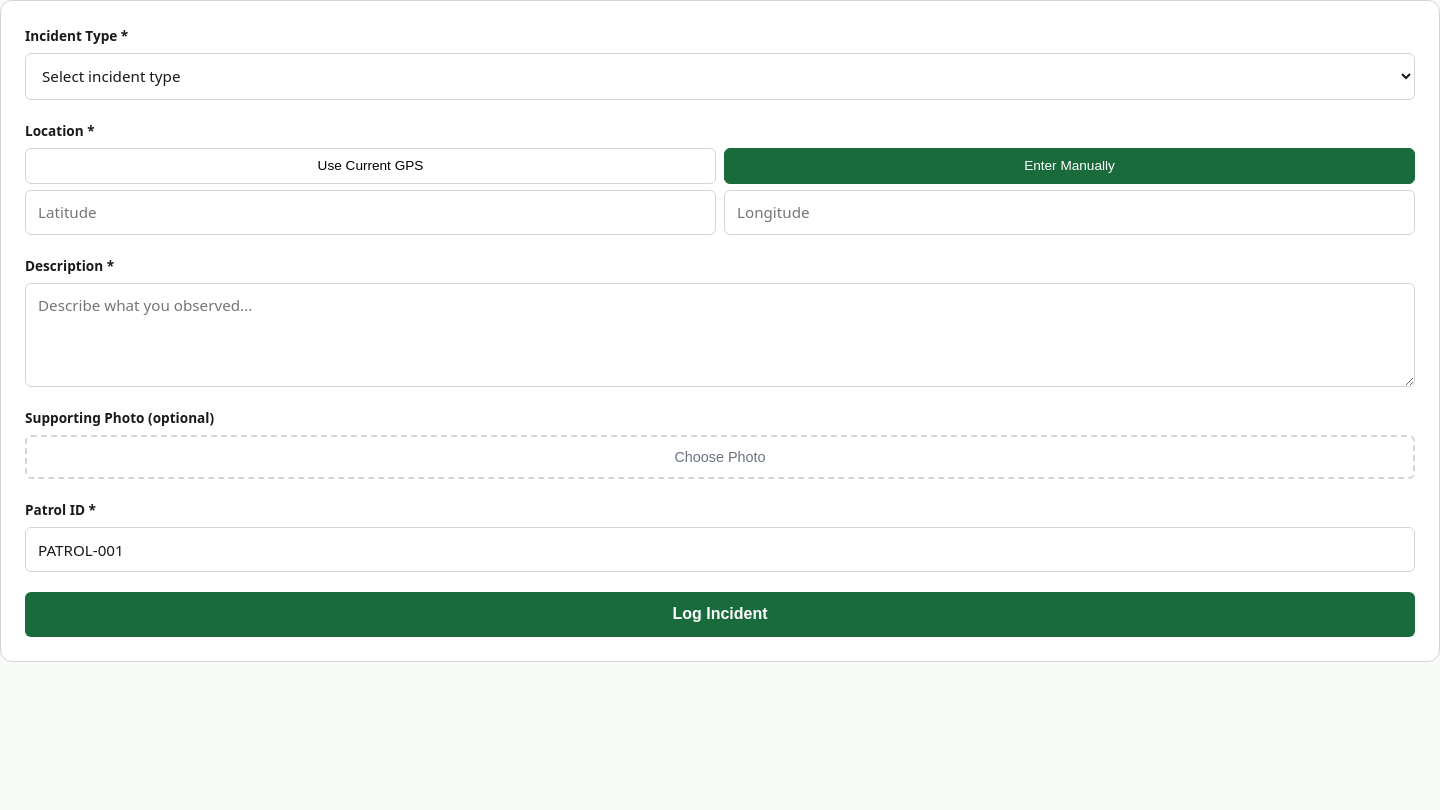
Test: IncidentForm › shows validation error when submitting empty form
Click the button "Log Incident" at (720, 614), box [25, 592, 1415, 637]
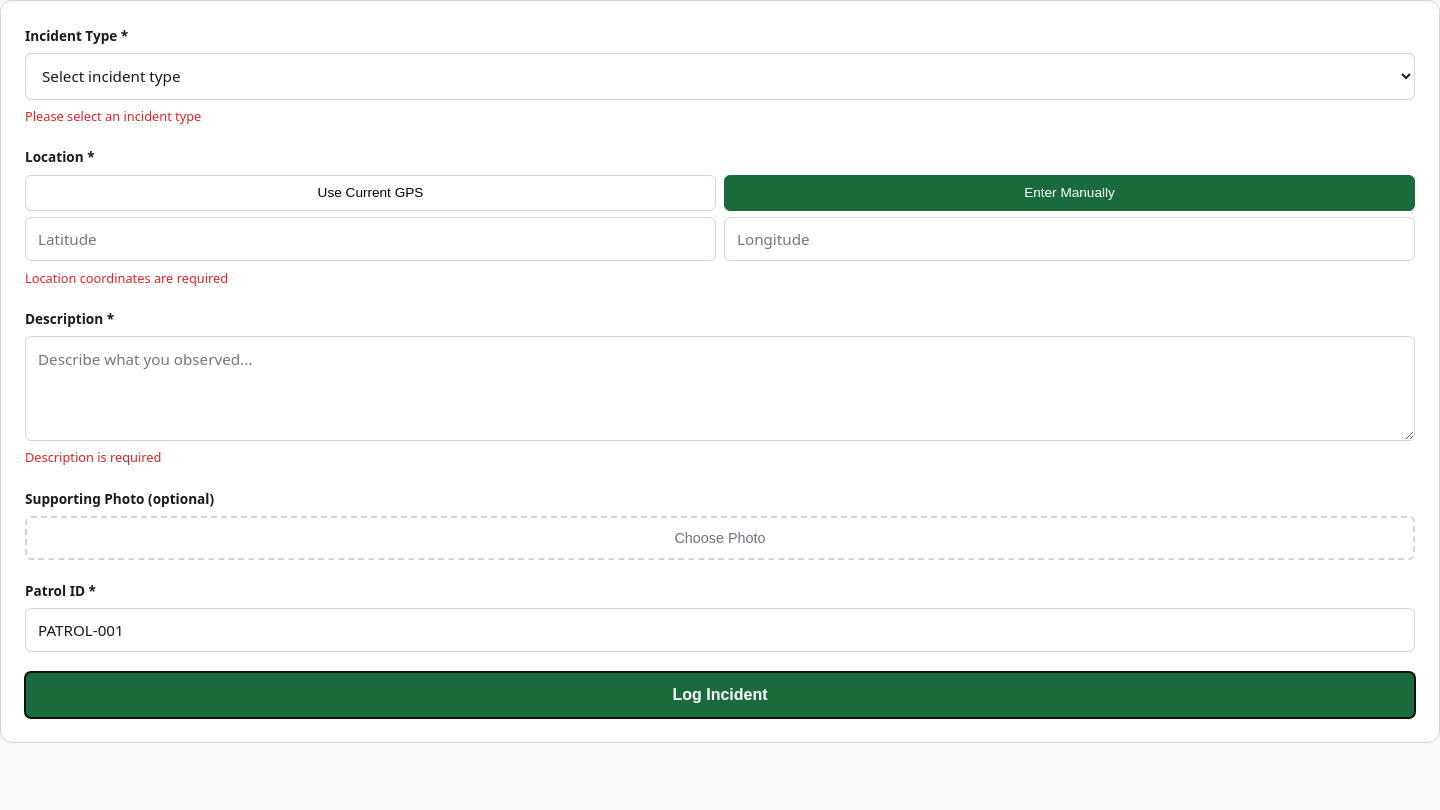
Expected: the text "Please select an incident type" is shown, [25, 107, 201, 125]
Expected: the text "Description is required" is shown, [25, 448, 161, 466]
Expected: the text "Location coordinates are required" is shown, [25, 269, 228, 287]
